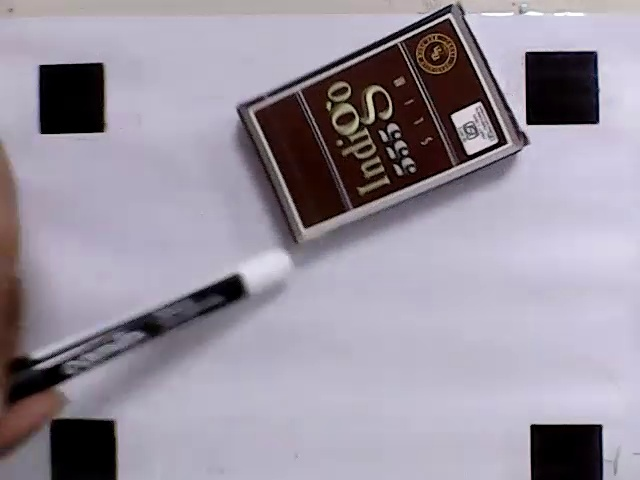BEX: (251, 16, 509, 231)
